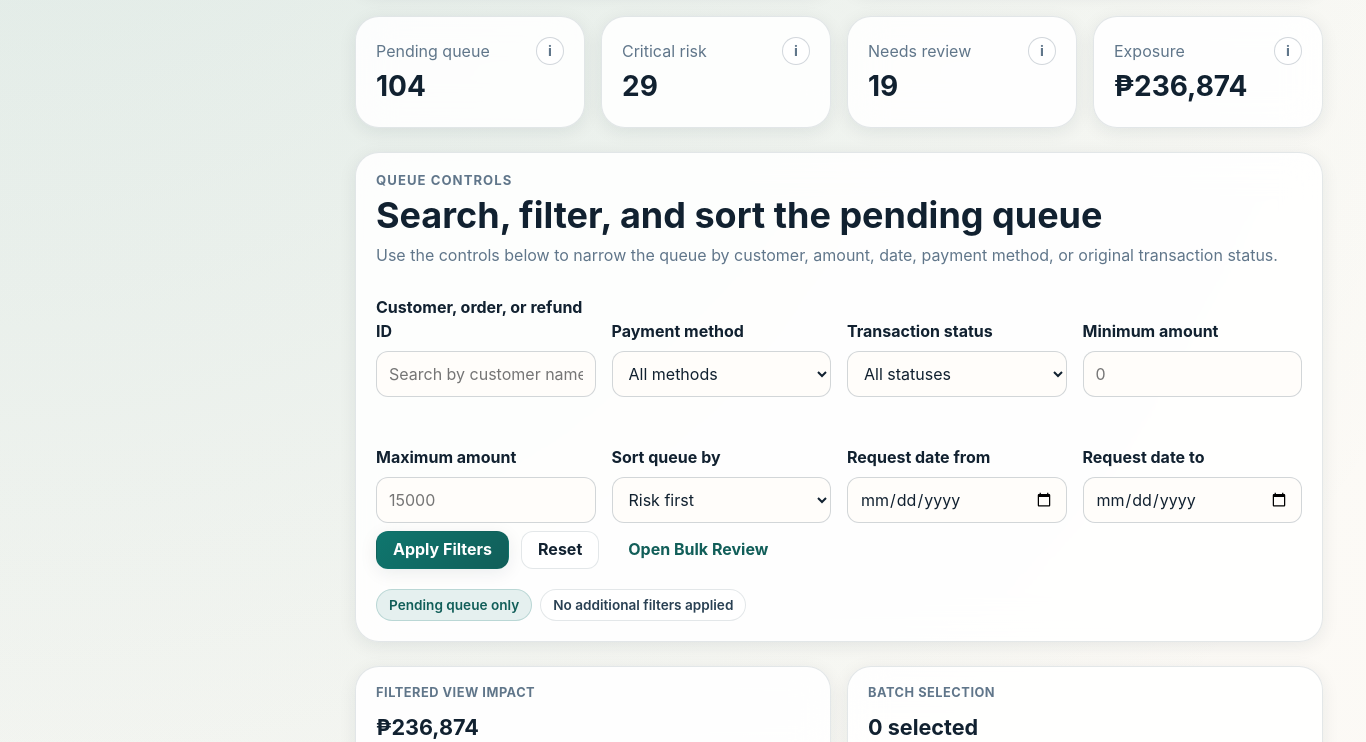
Test: AppRouter › filters the queue and opens the selected refund modal
(page scrolled)
Type "CUS-00004" into the field labelled "Customer, order, or refund ID" at (486, 374), box [376,351,596,397]
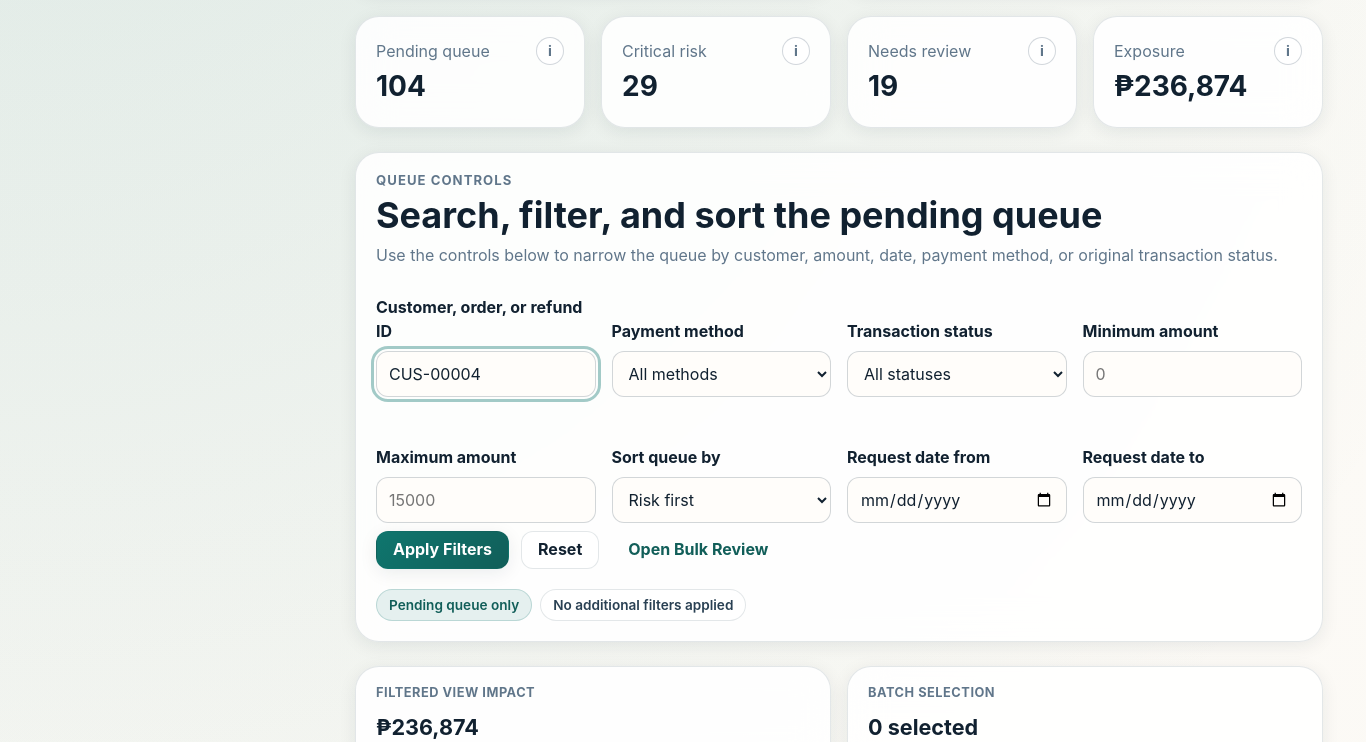
Click the button "Apply Filters" at (442, 550), box [376,531,509,569]
(page scrolled)
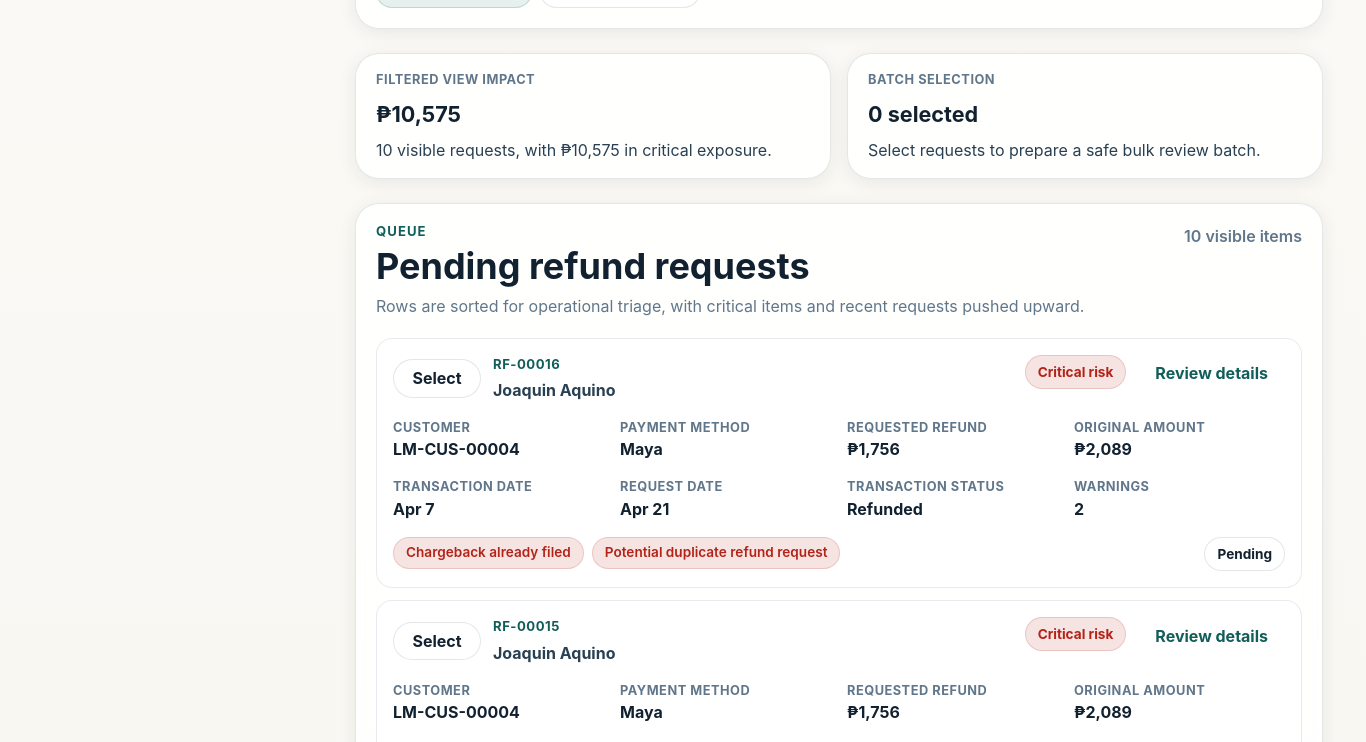
Click the button with aria-label "Review details for" at (1212, 374), box [1138,354,1285,393]
(page scrolled)
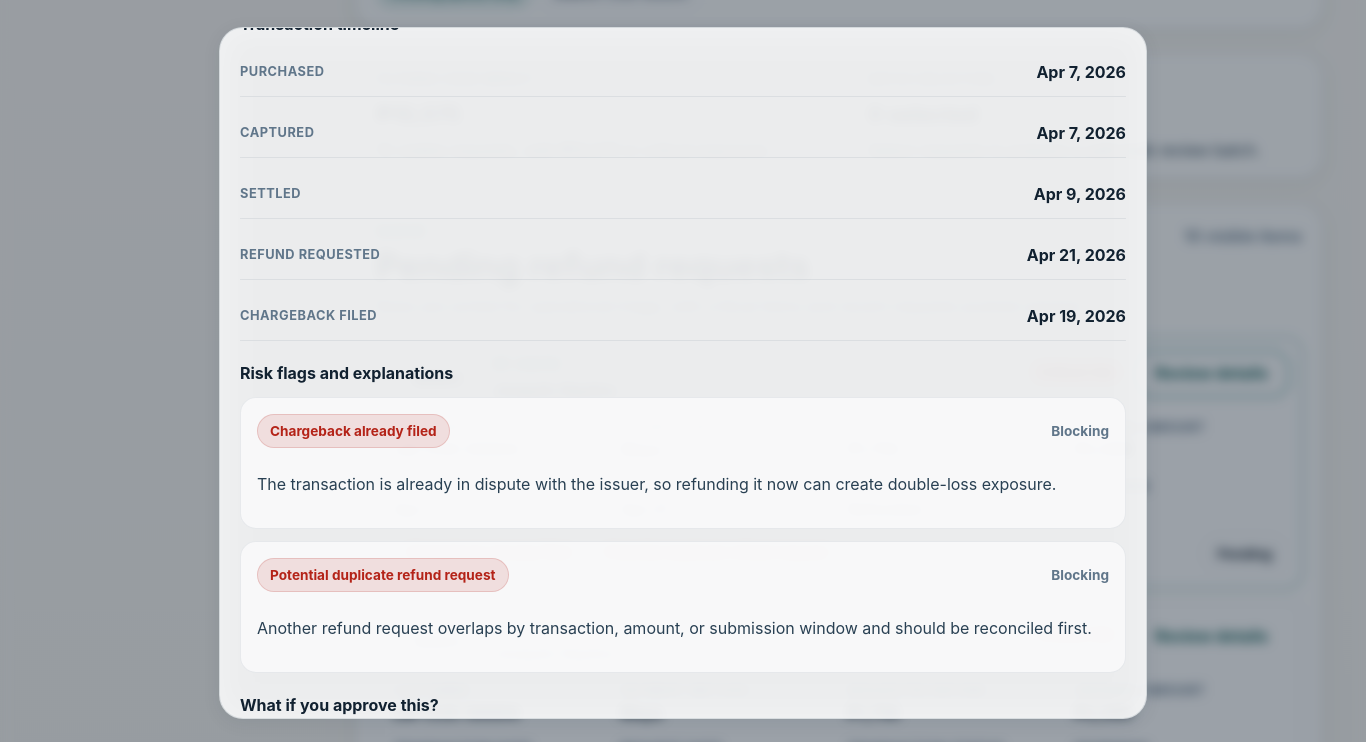
Expected: the heading "Risk flags and explanations" is shown, [240,363,453,383]
